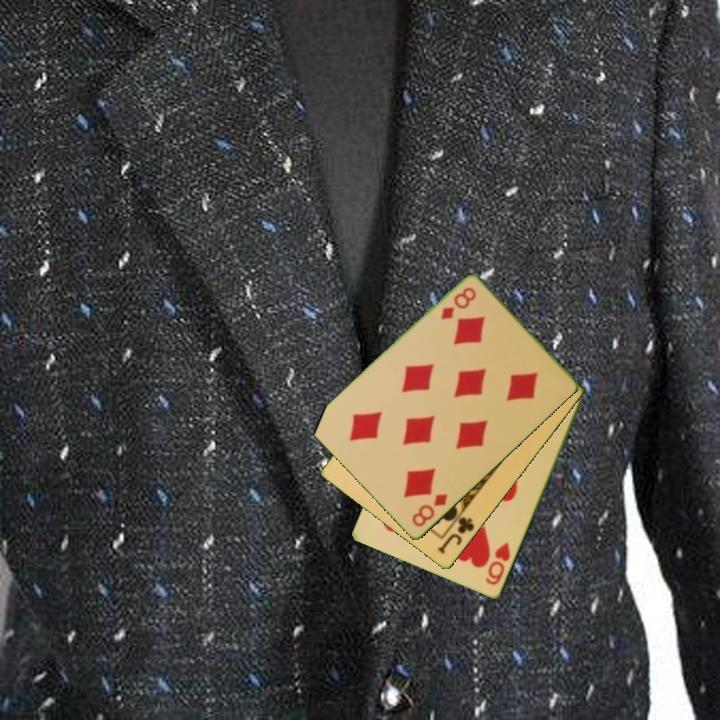6h: (482, 539, 513, 589)
8d: (408, 490, 450, 530), (437, 284, 479, 323)
Jc: (434, 513, 478, 557)
